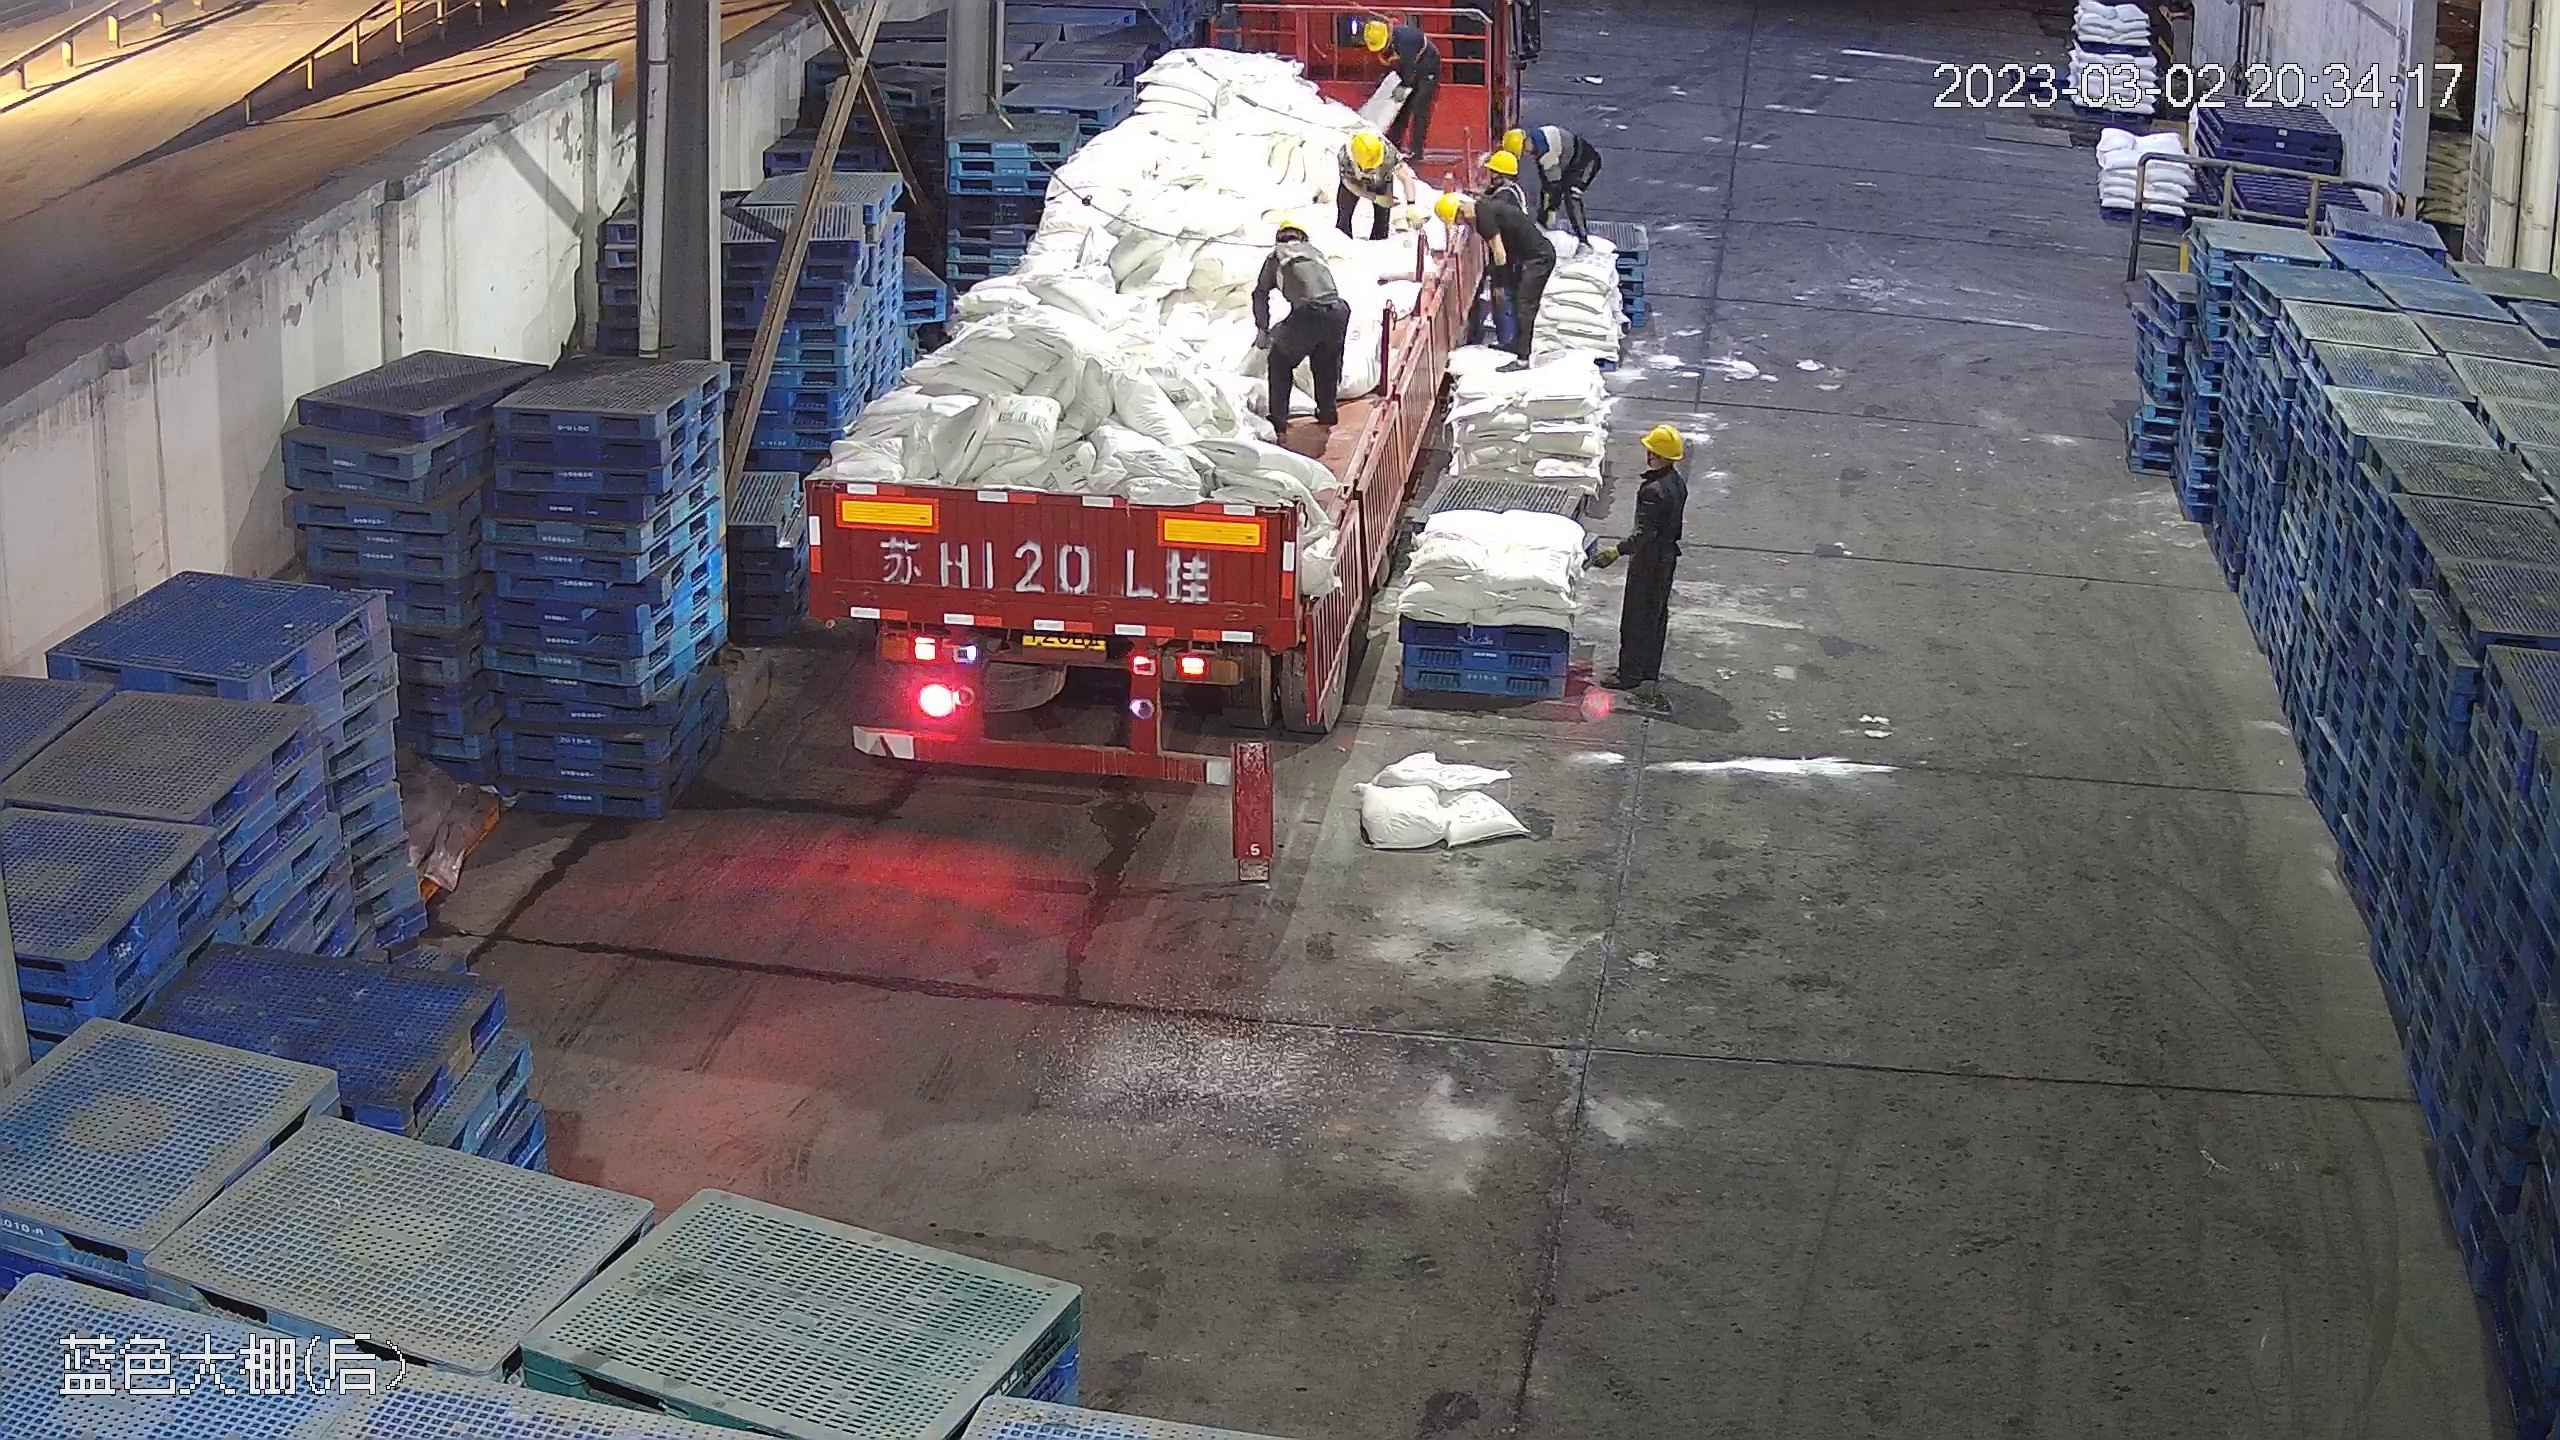belt: (1269, 238, 1330, 291), (1378, 16, 1427, 66), (1341, 133, 1367, 183), (1491, 181, 1528, 209)
head: (1628, 423, 1689, 516), (1258, 212, 1335, 285), (1431, 190, 1519, 246), (1359, 16, 1431, 68), (1339, 129, 1396, 177), (1501, 126, 1571, 162)
helmet: (1345, 127, 1387, 168), (1640, 424, 1685, 458), (1432, 192, 1467, 224), (1362, 18, 1393, 52), (1483, 152, 1519, 175), (1270, 216, 1308, 238), (1503, 127, 1525, 156)
people: (1248, 205, 1353, 443), (1605, 422, 1694, 700), (1484, 127, 1579, 296), (1360, 14, 1447, 155), (1321, 125, 1412, 254), (1512, 125, 1597, 250)
truck: (804, 13, 1499, 779)
